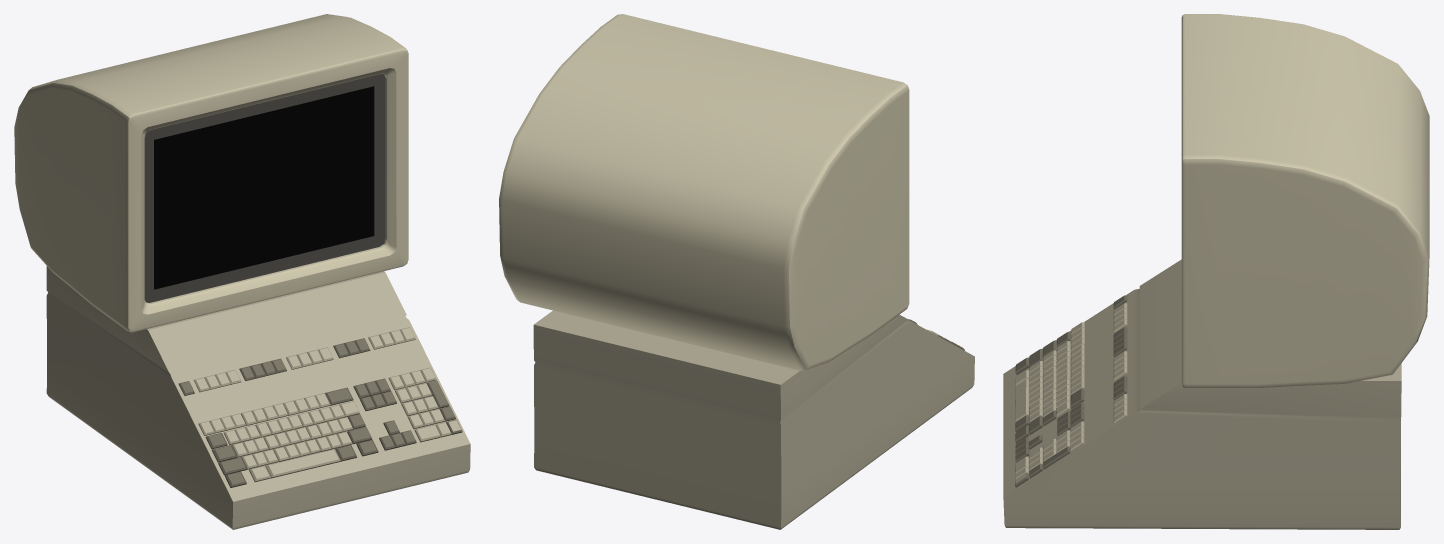
The picture shows the model from 3 angles, left to right: view 1: azimuth 30°, elevation 25°; view 2: azimuth 150°, elevation 25°; view 3: azimuth 270°, elevation 25°; orthographic projection. The views are drawn at different scales.
Parts seen in each view (by area): view 1: group2_PCNoboolean:polySurface526; view 2: group2_PCNoboolean:polySurface526; view 3: group2_PCNoboolean:polySurface526.
Boxes of the visible parts, bbox=[...] form: group2_PCNoboolean:polySurface526: bbox=[14, 14, 470, 529]; group2_PCNoboolean:polySurface526: bbox=[499, 14, 974, 529]; group2_PCNoboolean:polySurface526: bbox=[1003, 14, 1429, 529].
Size of the model in its own units: 1.63 by 2 by 2.
